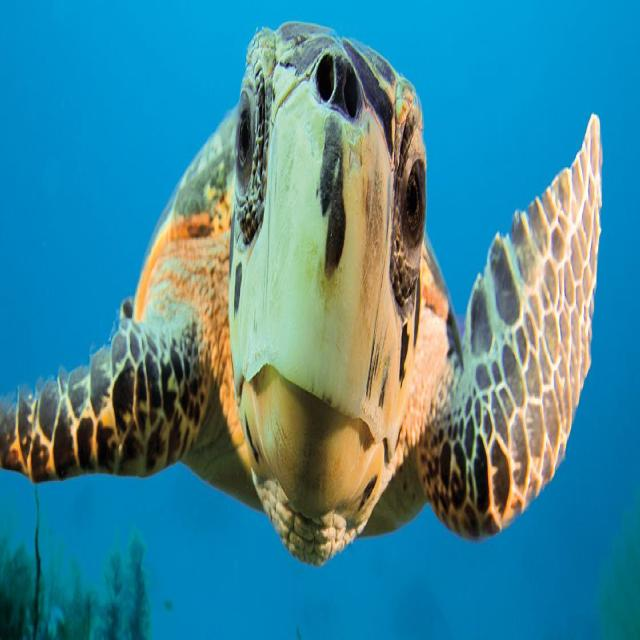turtle: (210, 24, 457, 587)
